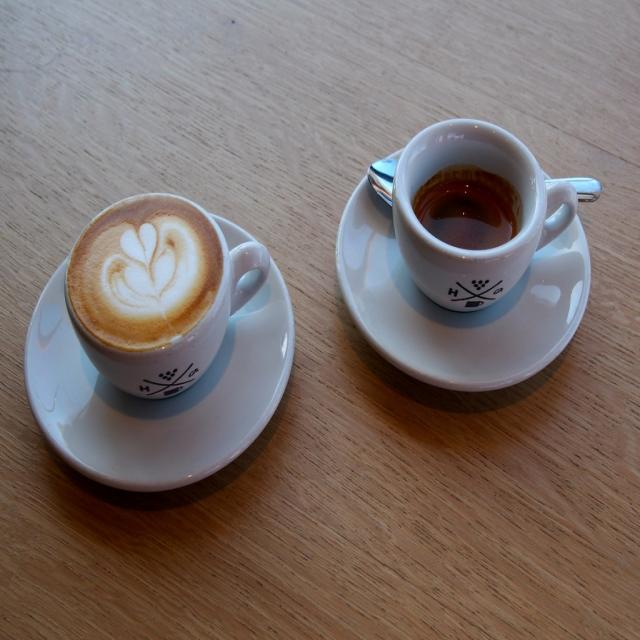latte: (63, 192, 232, 355)
